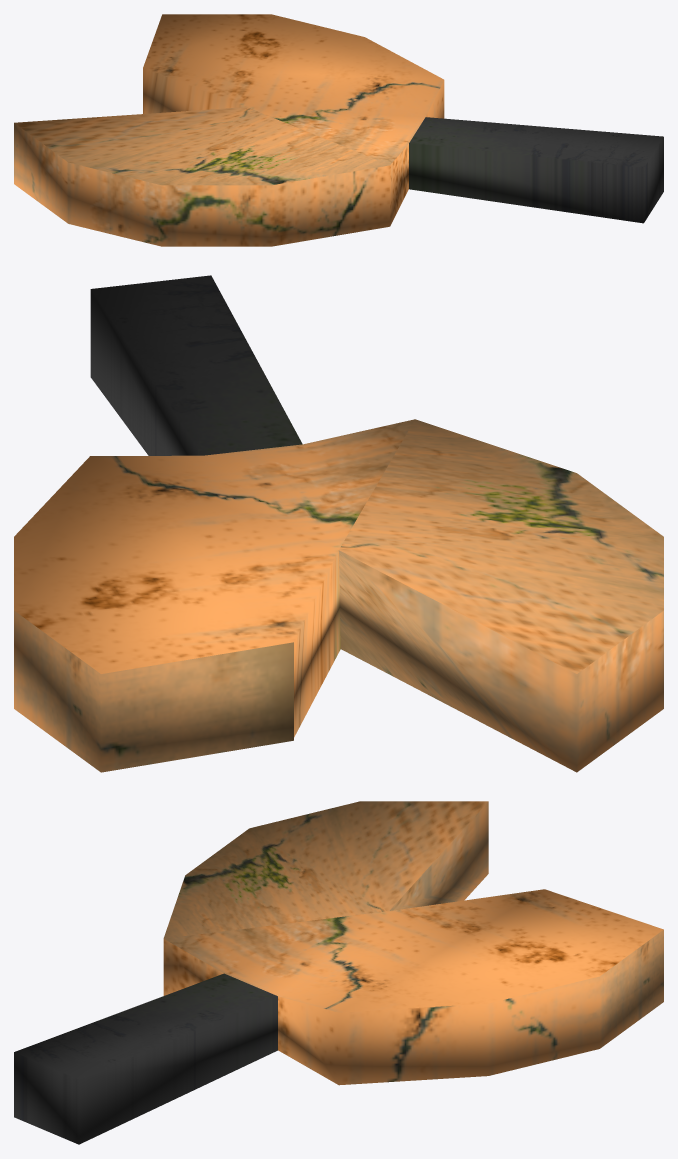
Rendered from pingpong_01.fbx.
3 views of the same model, one above another, from view 1: azimuth 30°, elevation 25°; view 2: azimuth 150°, elevation 25°; view 3: azimuth 270°, elevation 25° (orthographic). The views are drawn at different scales.
Parts seen in each view (by area): view 1: pingpong_01; view 2: pingpong_01; view 3: pingpong_01.
Part boxes in pixels (x1,y1,x2,y2): pingpong_01: (14, 14, 663, 246); pingpong_01: (14, 275, 663, 772); pingpong_01: (14, 801, 663, 1144).
Size of the model in its own units: 0.2348 by 0.0289 by 0.2348.
